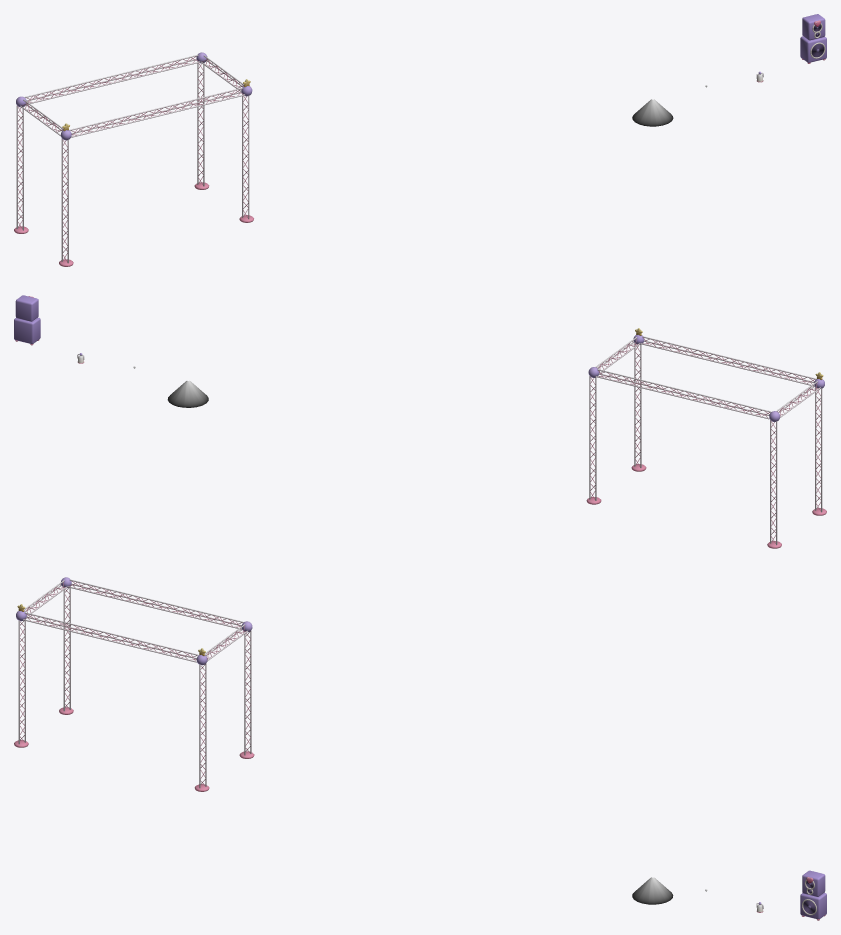
The model's file is prp_stage_rig.glb.
The picture shows the model from 3 angles, top to bottom: view 1: azimuth 30°, elevation 25°; view 2: azimuth 150°, elevation 25°; view 3: azimuth 330°, elevation 25°; orthographic projection.
Parts seen in each view (by area): view 1: INST_prp_stage_rig_truss, INST_prp_stage_rig_speaker, INST_prp_stage_rig_beam; view 2: INST_prp_stage_rig_truss, INST_prp_stage_rig_speaker, INST_prp_stage_rig_beam; view 3: INST_prp_stage_rig_truss, INST_prp_stage_rig_speaker, INST_prp_stage_rig_beam.
Boxes of the visible parts, x1,y1,x2,y2 form: INST_prp_stage_rig_truss: (14,52,253,266); INST_prp_stage_rig_speaker: (800,14,826,63); INST_prp_stage_rig_beam: (632,99,673,126); INST_prp_stage_rig_truss: (586,328,826,548); INST_prp_stage_rig_speaker: (14,295,40,345); INST_prp_stage_rig_beam: (167,380,208,407); INST_prp_stage_rig_truss: (14,577,254,791); INST_prp_stage_rig_speaker: (800,870,826,920); INST_prp_stage_rig_beam: (632,877,673,904).
Bounding box in the file's own units: 43.96 × 8.52 × 5.07.
